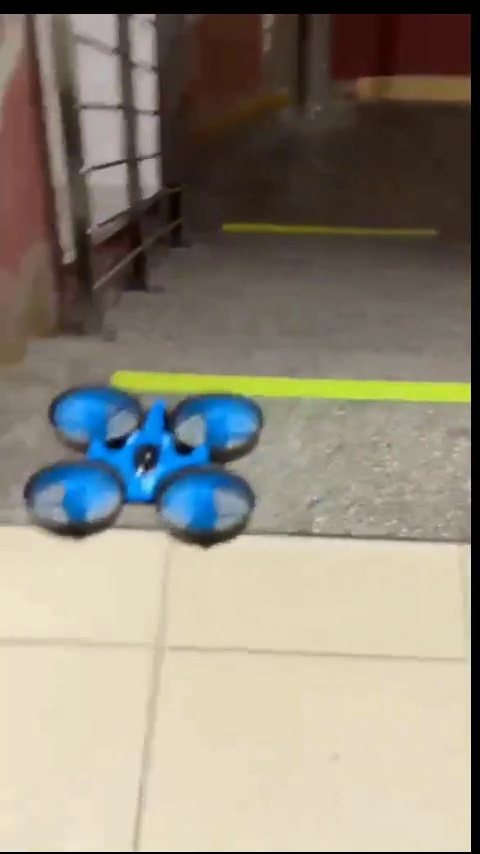drone: (27, 386, 257, 529)
